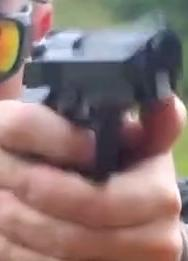gun: (1, 1, 188, 261)
